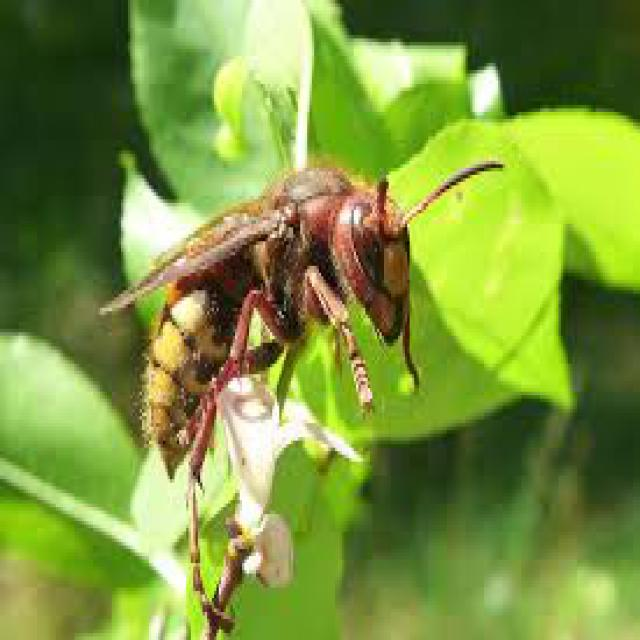Vespa Crabro: (112, 109, 514, 551)
